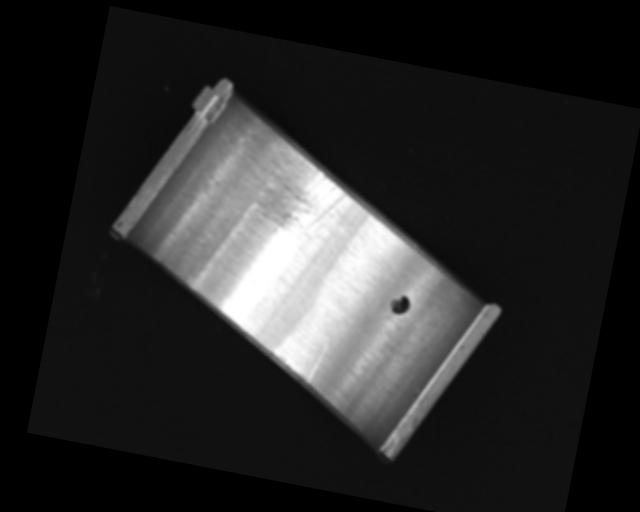blot: (388, 293, 412, 317)
nick: (306, 342, 327, 384)
scratch: (236, 120, 356, 246)
